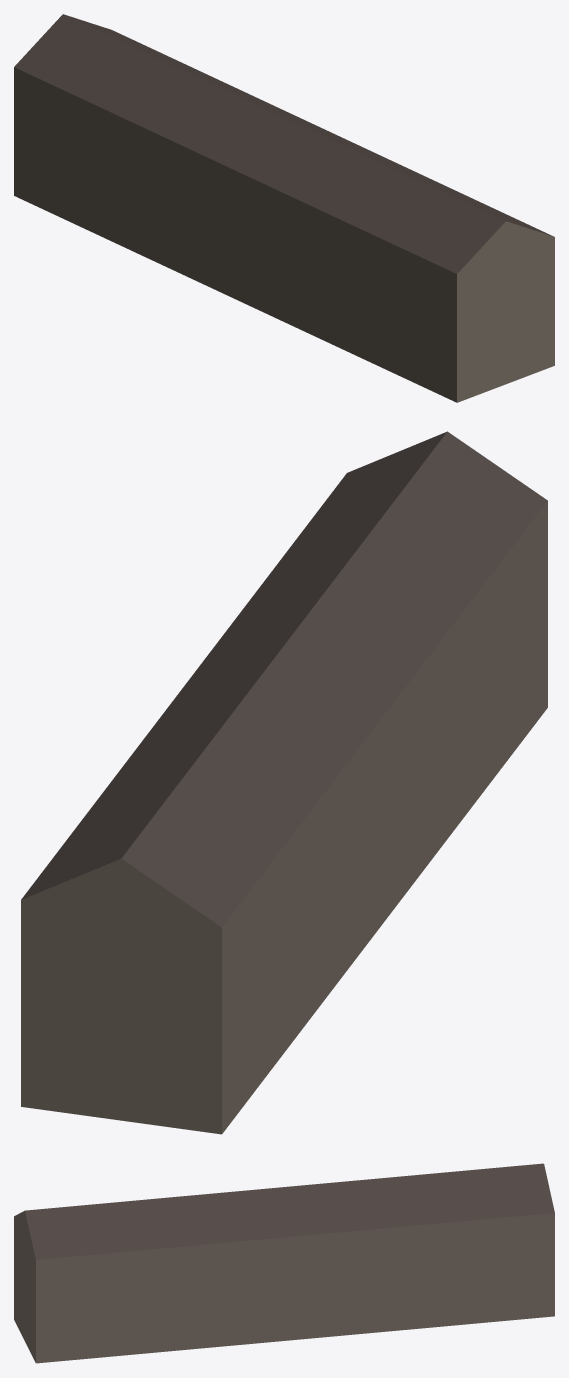
The picture shows the model from 3 angles, top to bottom: view 1: azimuth 30°, elevation 25°; view 2: azimuth 150°, elevation 25°; view 3: azimuth 270°, elevation 25°; orthographic projection. The views are drawn at different scales.
Parts seen in each view (by area): view 1: HP-w299225193; view 2: HP-w299225193; view 3: HP-w299225193.
Part boxes in pixels (x1=…): HP-w299225193: x1=14, y1=14, x2=554, y2=402; HP-w299225193: x1=21, y1=431, x2=547, y2=1134; HP-w299225193: x1=14, y1=1163, x2=554, y2=1363.
Size of the model in its own units: 11.3 by 7.61 by 28.45.
